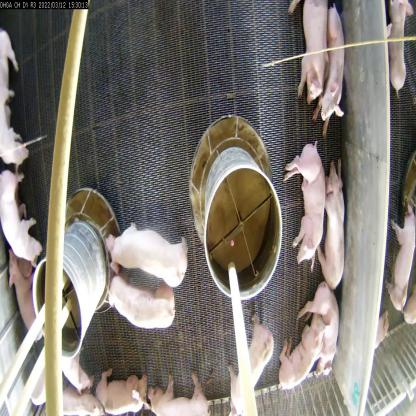Pig: (103, 217, 191, 295), (284, 148, 332, 277), (97, 274, 181, 342), (0, 236, 45, 352), (316, 154, 353, 283), (225, 317, 274, 410), (274, 317, 324, 408), (320, 9, 357, 127), (0, 166, 44, 264), (293, 0, 327, 112), (147, 363, 208, 416), (306, 283, 340, 376), (86, 367, 148, 415)
